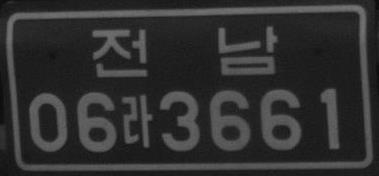0: (27, 90, 68, 153)
1: (313, 86, 347, 151)
3: (159, 89, 201, 153)
6: (208, 89, 253, 153), (258, 88, 303, 151), (75, 91, 117, 152)
라: (122, 93, 153, 147)
전남_D: (91, 24, 279, 78)
